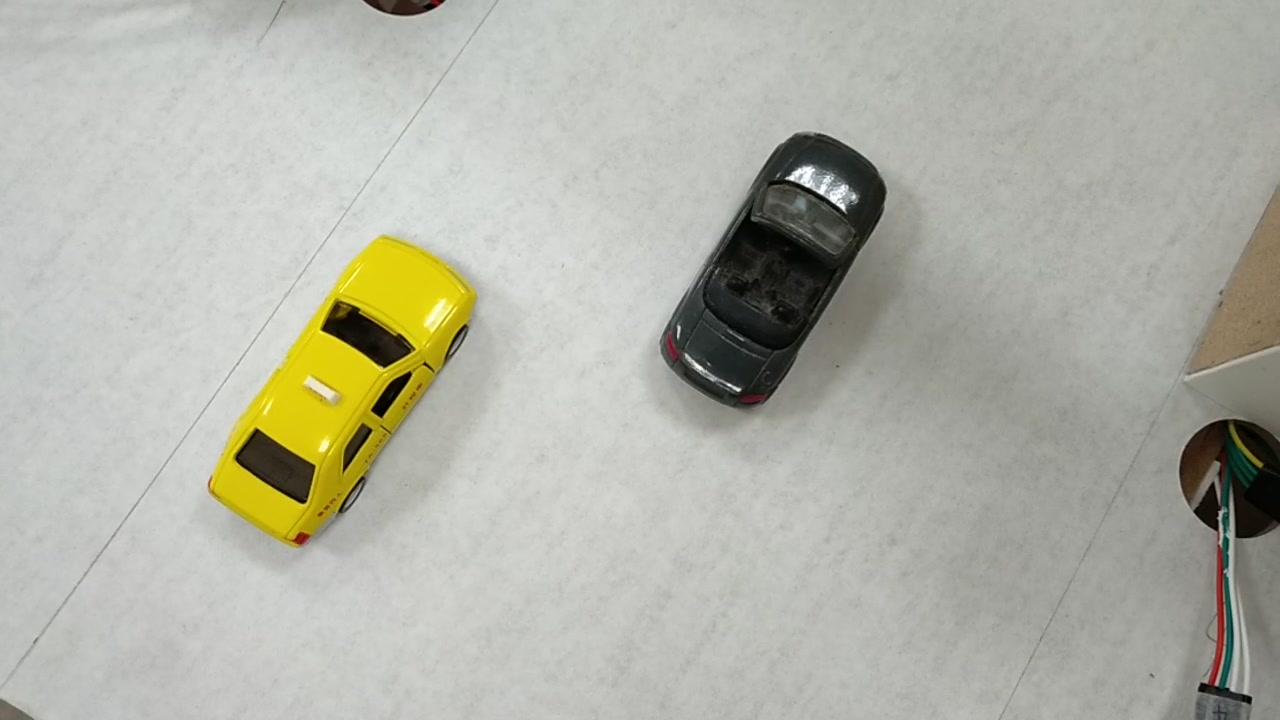car: (208, 247, 474, 539), (659, 136, 884, 397)
